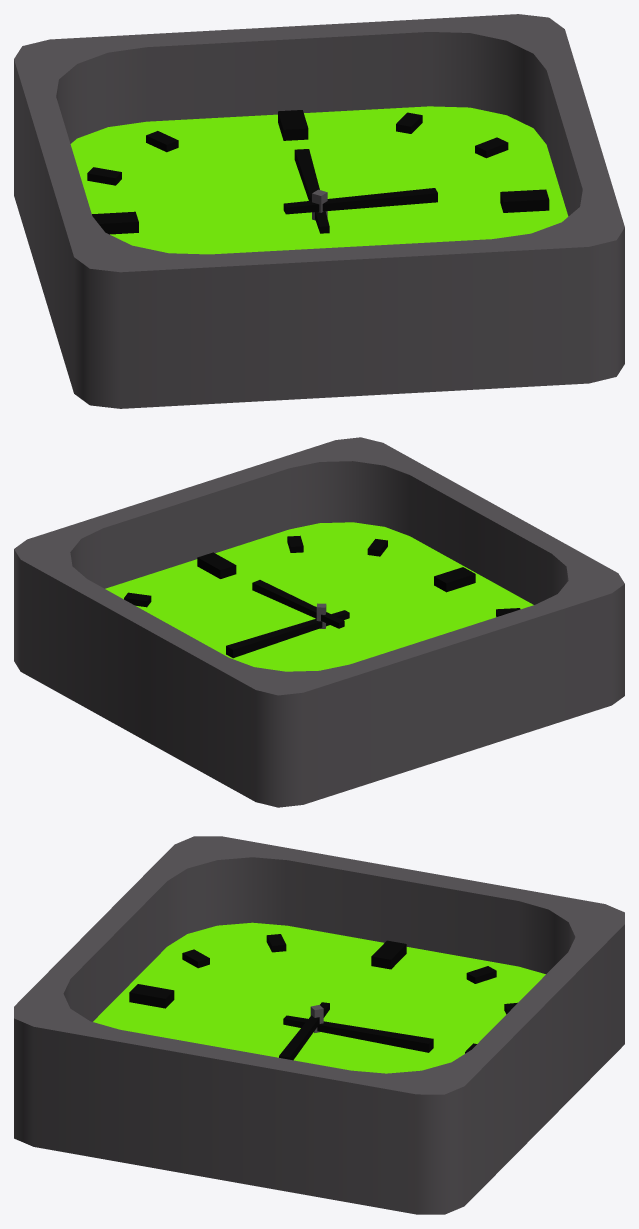
The model's file is ToyObject_083.fbx.
3 views of the same model, one above another, from view 1: azimuth 30°, elevation 25°; view 2: azimuth 150°, elevation 25°; view 3: azimuth 270°, elevation 25° (orthographic). The views are drawn at different scales.
Parts seen in each view (by area): view 1: 1.056; view 2: 1.056; view 3: 1.056.
Boxes of the visible parts, x1=… form: 1.056: x1=14, y1=14, x2=624, y2=408; 1.056: x1=14, y1=437, x2=624, y2=807; 1.056: x1=14, y1=836, x2=624, y2=1214.
Size of the model in its own units: 0.2226 by 0.0483 by 0.2226.
